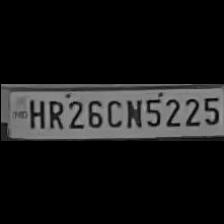2: (64, 97, 84, 129), (162, 94, 180, 126), (181, 93, 199, 125)
5: (200, 92, 220, 125), (142, 94, 160, 126)
6: (84, 96, 103, 128)
C: (104, 96, 122, 128)
H: (24, 96, 43, 128)
N: (122, 96, 142, 128)
R: (43, 96, 62, 130)
